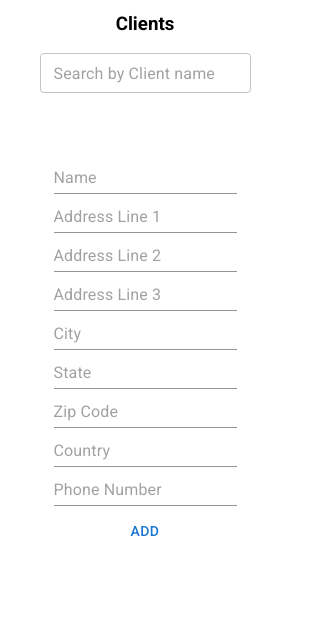
Test case: Clients Component › search filters clients correctly
Type "Joan" into the field with placeholder "Search by Client name" at (145, 73), box x1=40 y1=53 x2=250 y2=93
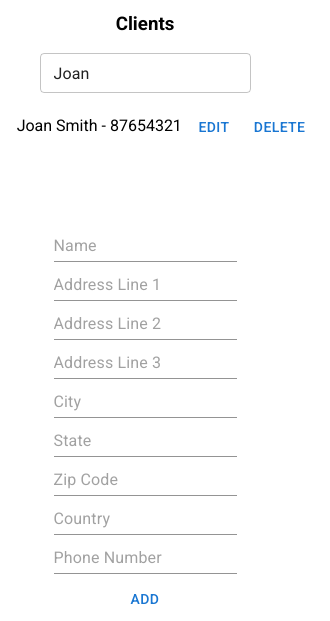
Expected: the list item "Joan Smith - 87654321" is shown, x1=17 y1=109 x2=313 y2=146
